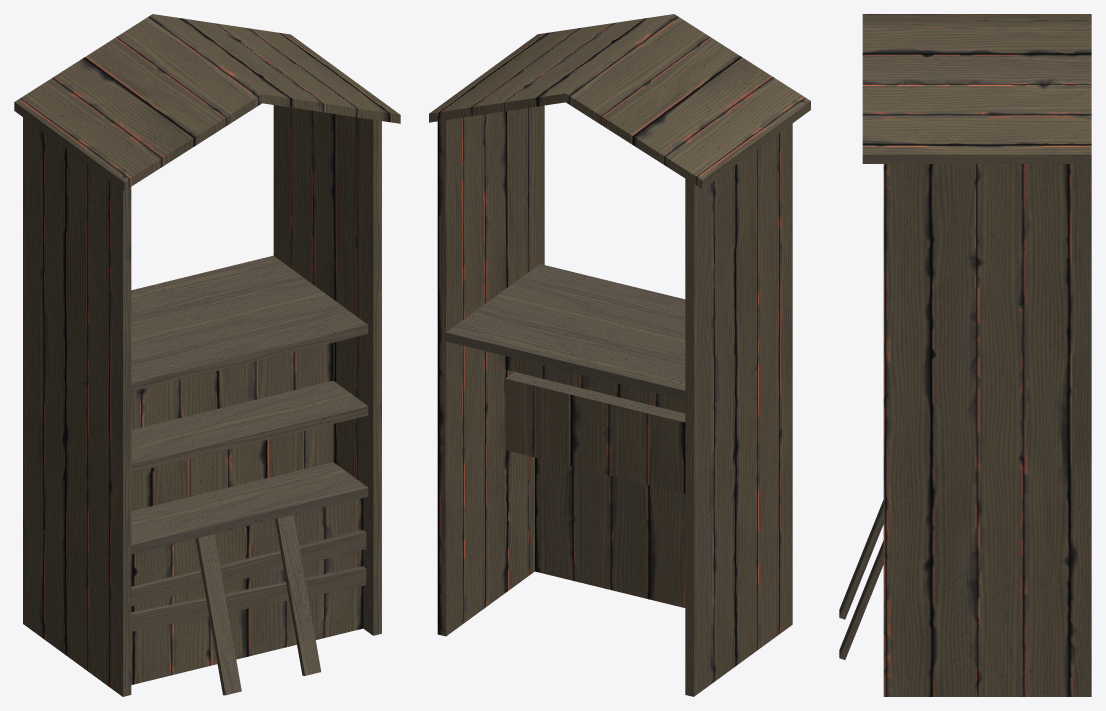
Rendered from Shop_Booth.FBX.
The picture shows the model from 3 angles, left to right: view 1: azimuth 30°, elevation 25°; view 2: azimuth 150°, elevation 25°; view 3: azimuth 270°, elevation 25°; orthographic projection. The views are drawn at different scales.
Visible parts, largest first — view 1: Shop_Booth; view 2: Shop_Booth; view 3: Shop_Booth.
Boxes of the visible parts, <box> form: Shop_Booth: <box>14,14,400,696</box>; Shop_Booth: <box>429,14,810,696</box>; Shop_Booth: <box>839,14,1091,696</box>.
Bounding box in the file's own units: 1.6 × 3.23 × 1.21.
